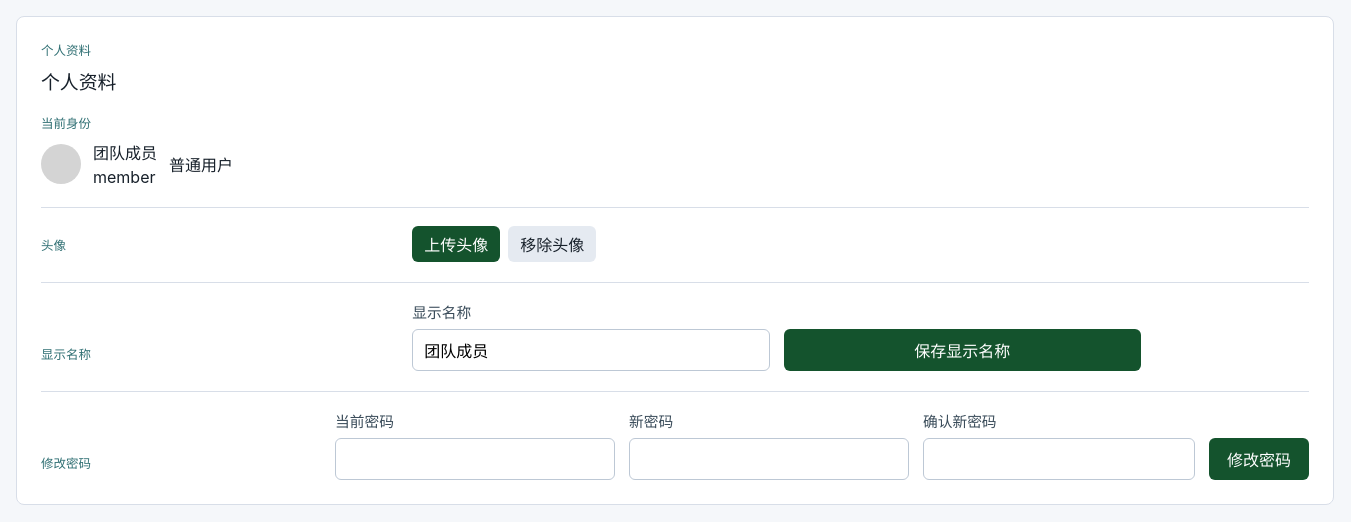
Test: ProfilePage › updates display name
Replace the text in the field labelled "显示名称" with "新名字". click: (591, 350)
box: [412,329,770,371]
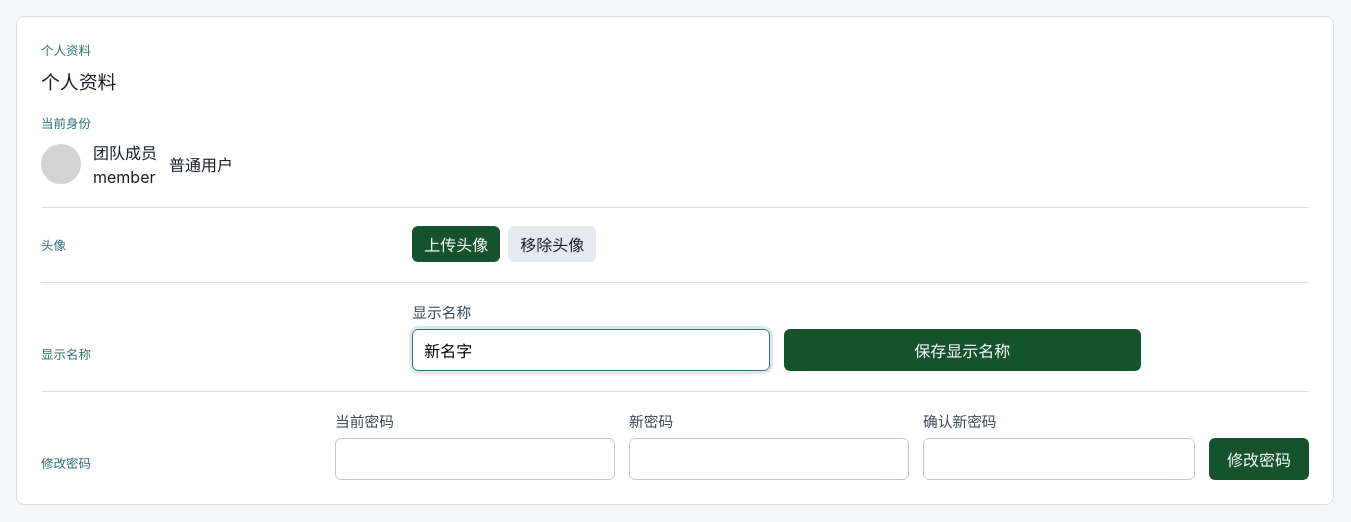
Click the button "保存显示名称". click: (962, 350)
box: [784,329,1141,371]
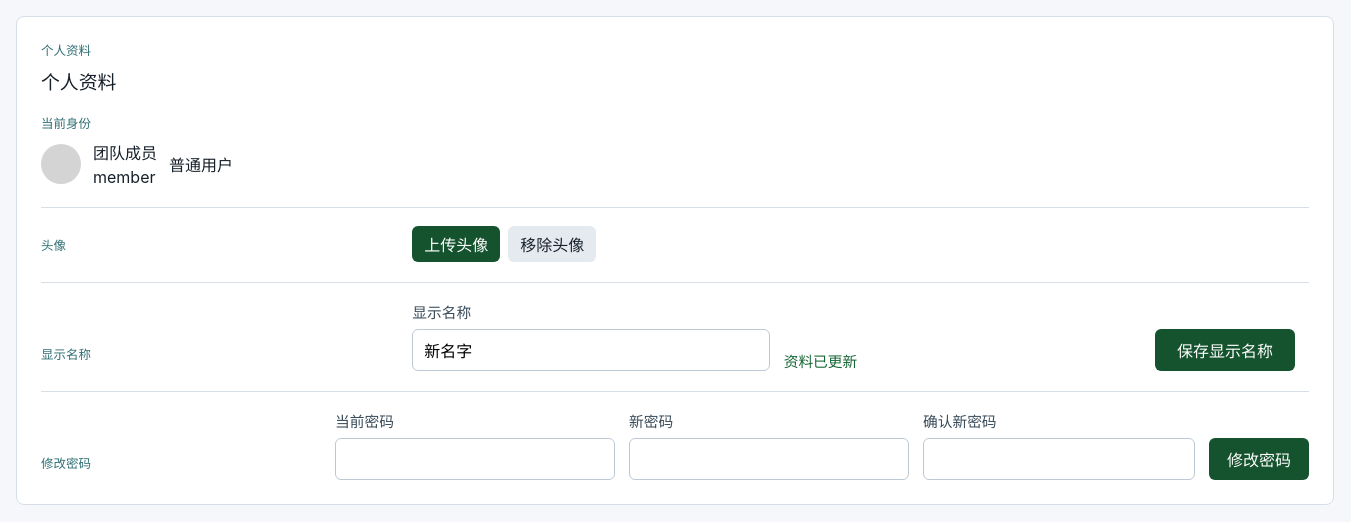
Check: the text "资料已更新" is shown, box [784,353,857,371]
